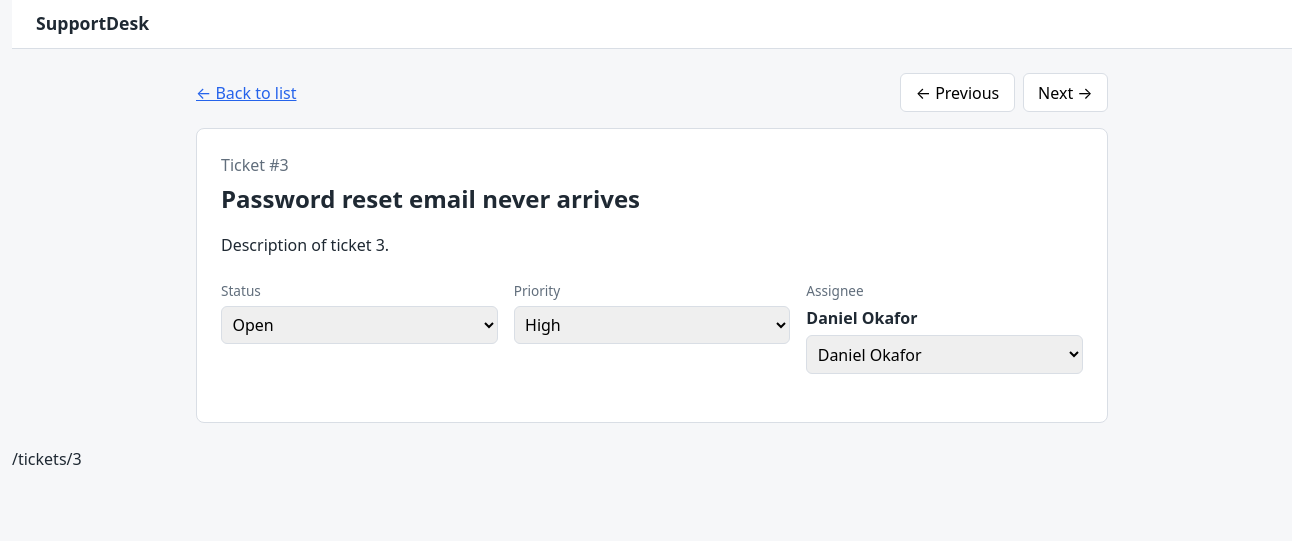
it: TicketDetails › saves a status change and shows a success message
Check: the element with test id "ticket-details" is shown, box [196,128,1108,423]
Select "Closed" in the dropdown with test id "status-select" at (359, 325), box [221,306,498,344]
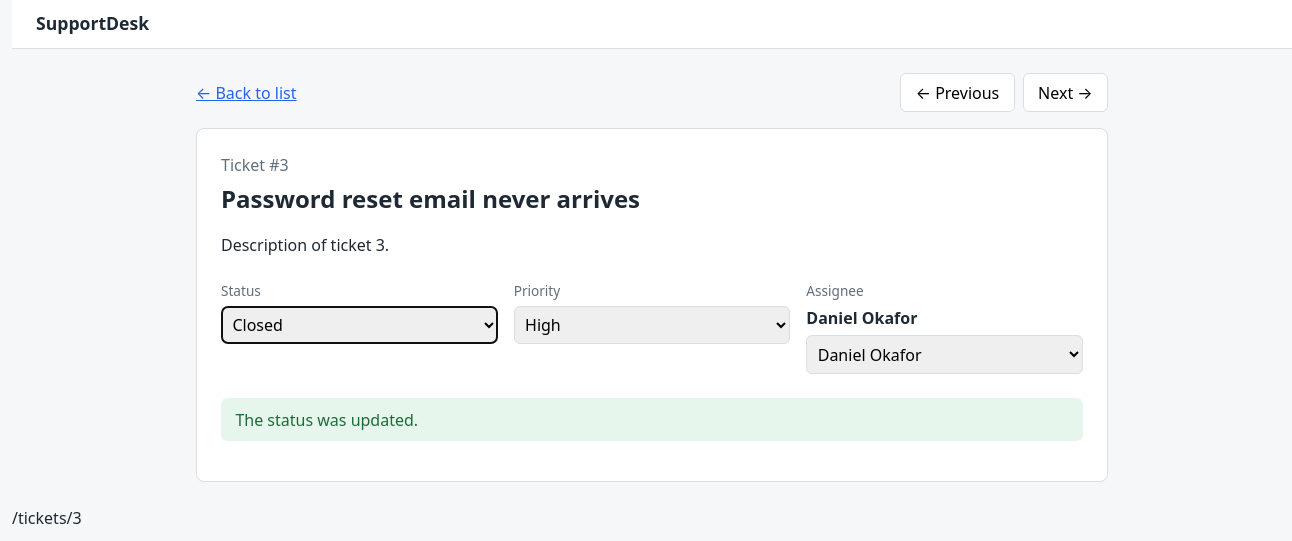
Check: the message "The status was updated." is shown, box [221,398,1083,441]
